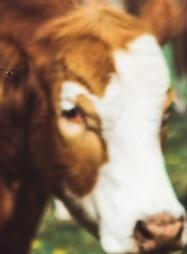muzzles: (123, 207, 186, 253)
